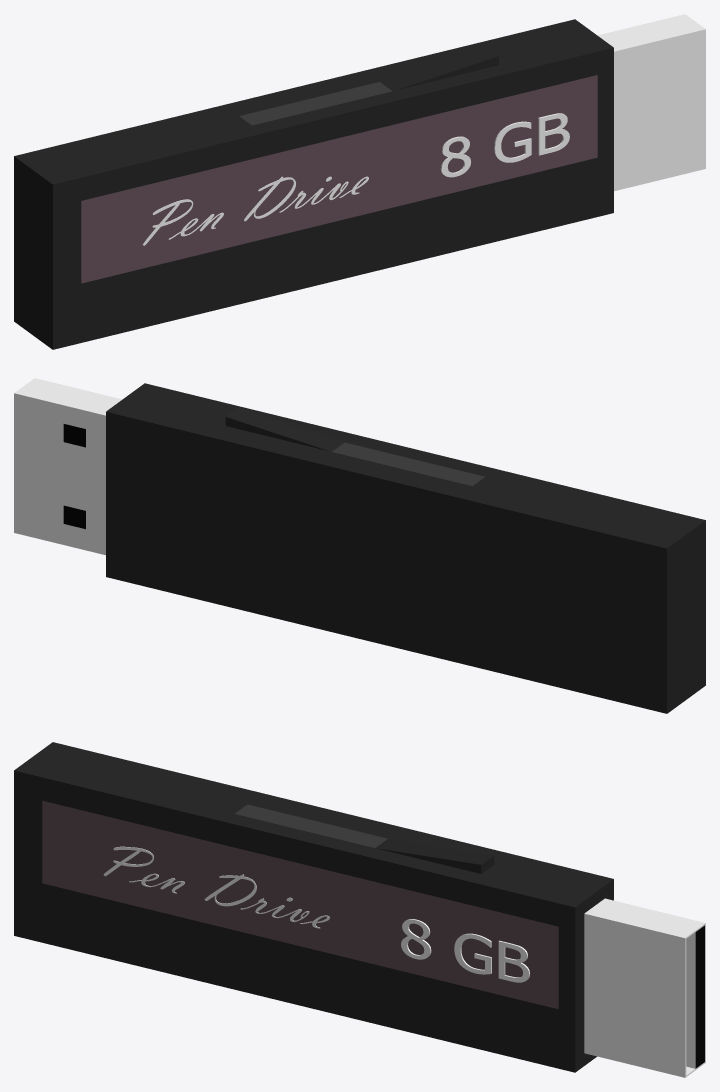
3 renders of one model, top to bottom at view 1: azimuth 30°, elevation 25°; view 2: azimuth 150°, elevation 25°; view 3: azimuth 330°, elevation 25°, orthographic.
Visible parts, largest first — view 1: pen drive; view 2: pen drive; view 3: pen drive.
Boxes of the visible parts, x1,y1,x2,y2 form: pen drive: (14,14,705,349); pen drive: (14,378,705,713); pen drive: (14,742,705,1077).
Size of the model in its own units: 1.28 by 0.3218 by 0.133.
